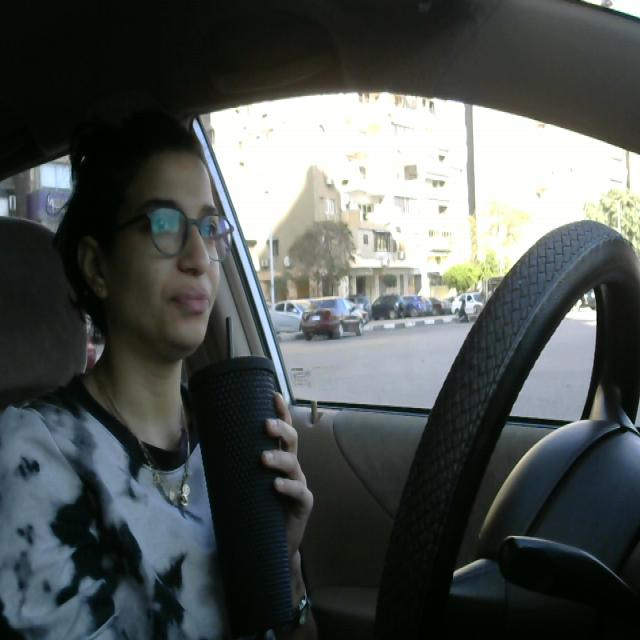drinking: (188, 314, 304, 638)
